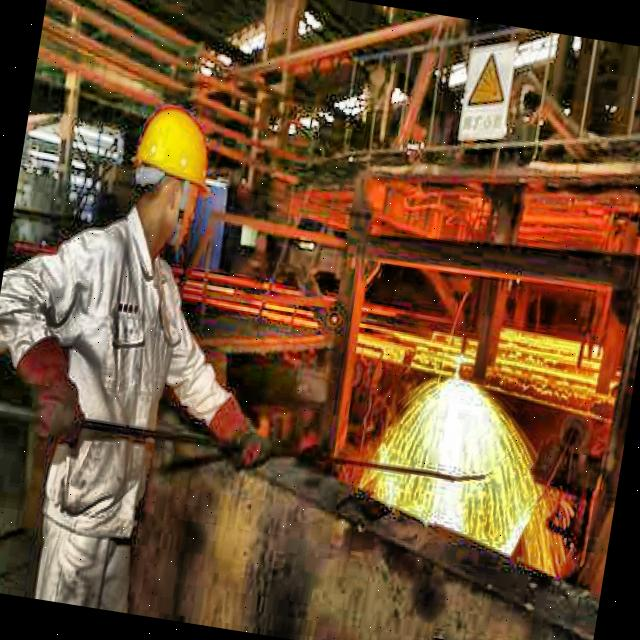helmet: (117, 92, 225, 260)
